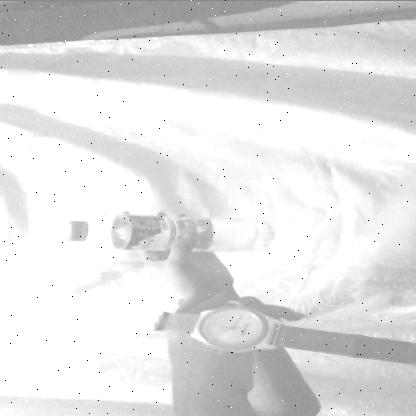Plastic Bottle: (42, 187, 312, 268)
